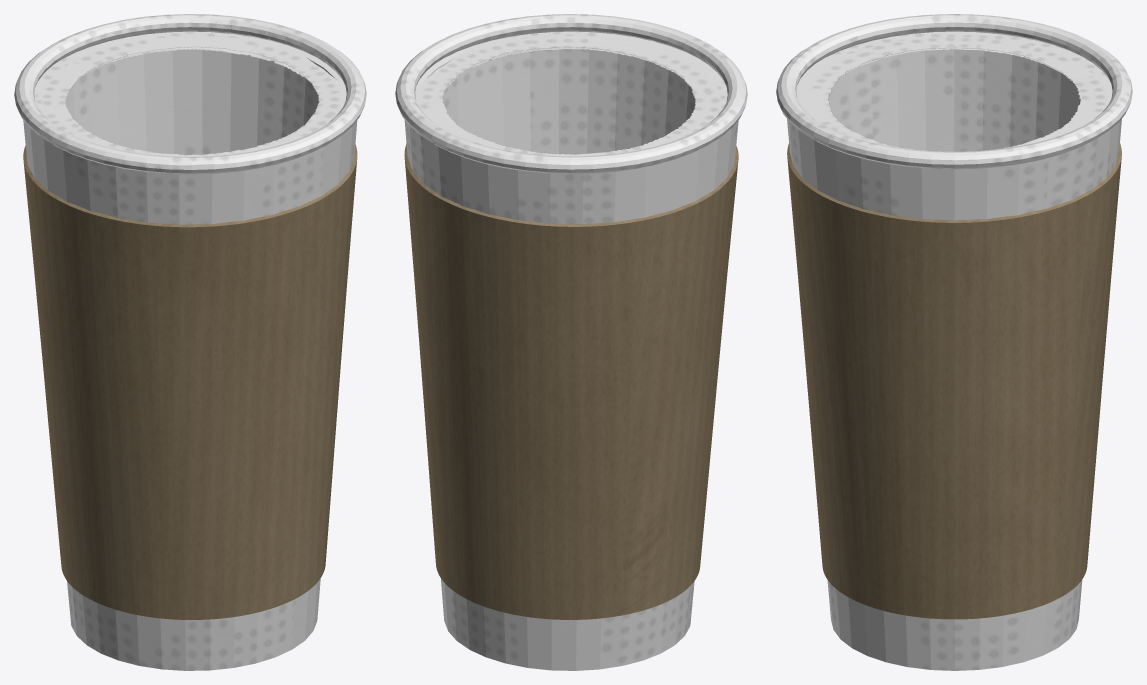
Rendered from coffee cup_trash.fbx.
3 views of the same model, side by side, from view 1: azimuth 30°, elevation 25°; view 2: azimuth 150°, elevation 25°; view 3: azimuth 270°, elevation 25° (orthographic).
Visible parts, largest first — view 1: Cardboard Sleeve; view 2: Cardboard Sleeve; view 3: Cardboard Sleeve.
Part boxes in pixels (x1=…): Cardboard Sleeve: x1=14, y1=14, x2=366, y2=670; Cardboard Sleeve: x1=395, y1=14, x2=747, y2=670; Cardboard Sleeve: x1=776, y1=14, x2=1132, y2=670.
Bounding box in the file's own units: 13.16 × 22.11 × 13.34.
